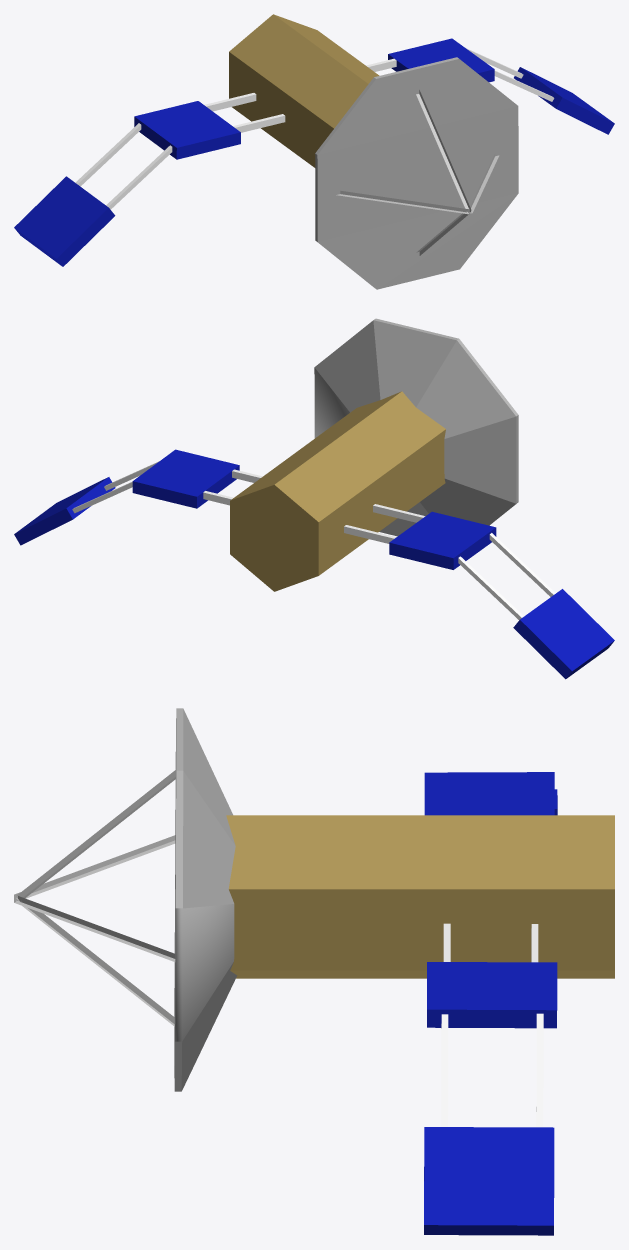
The model's file is satellite_low.glb.
3 renders of one model, top to bottom at view 1: azimuth 30°, elevation 25°; view 2: azimuth 150°, elevation 25°; view 3: azimuth 270°, elevation 25°, orthographic. The views are drawn at different scales.
Visible parts, largest first — view 1: Cylinder.003, Cylinder, Cylinder.000, Cylinder.005, Cube.003, Cube; view 2: Cylinder, Cylinder.003, Cylinder.000, Cylinder.005; view 3: Cylinder, Cylinder.005, Cylinder.003, Cylinder.000, Cube, Cube.001, Cube.002, Cube.003.
Boxes of the visible parts, x1=… form: Cylinder.003: x1=315, y1=57, x2=518, y2=289; Cylinder: x1=229, y1=14, x2=379, y2=167; Cylinder.000: x1=14, y1=93, x2=285, y2=266; Cylinder.005: x1=366, y1=38, x2=614, y2=134; Cube.003: x1=336, y1=190, x2=469, y2=214; Cube: x1=416, y1=90, x2=471, y2=212; Cylinder: x1=230, y1=391, x2=445, y2=591; Cylinder.003: x1=314, y1=318, x2=518, y2=536; Cylinder.000: x1=344, y1=504, x2=614, y2=679; Cylinder.005: x1=14, y1=449, x2=262, y2=545; Cylinder: x1=226, y1=815, x2=614, y2=978; Cylinder.005: x1=424, y1=923, x2=557, y2=1235; Cylinder.003: x1=174, y1=708, x2=237, y2=1091; Cylinder.000: x1=424, y1=772, x2=557, y2=815; Cube: x1=16, y1=770, x2=175, y2=901; Cube.001: x1=14, y1=896, x2=175, y2=961; Cube.002: x1=16, y1=900, x2=174, y2=1026; Cube.003: x1=14, y1=835, x2=175, y2=901.
Size of the model in its own units: 22.82 by 8.23 by 13.95.
